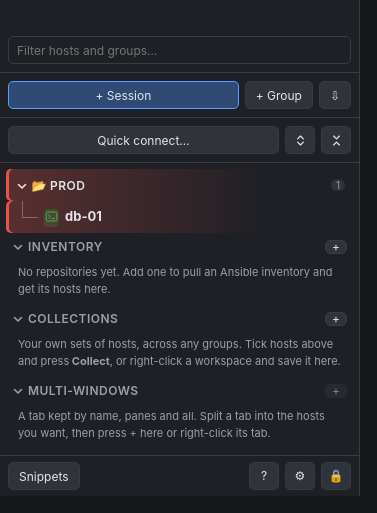
Test case: folders in the tree › marks the row a context menu was opened on, without selecting it
The width and height of the screenshot is (377, 513).
Right-click the text "db-01": (180, 217) x1=6 y1=201 x2=353 y2=233
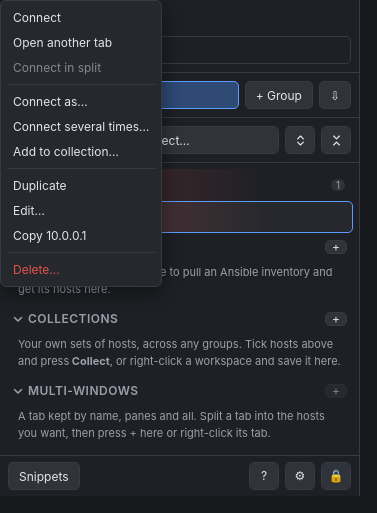
Check: the button "Add to collection…" is shown, box x1=5 y1=139 x2=158 y2=164
